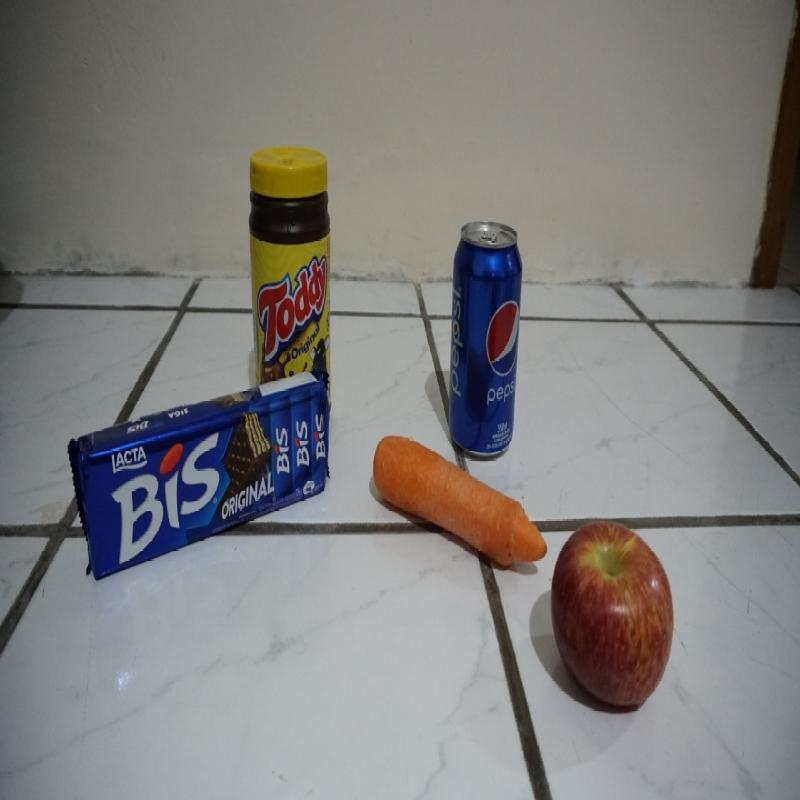Apple: (551, 517, 676, 705)
Carrot: (374, 437, 548, 589)
Chocolate Powder: (246, 148, 334, 362)
Soda can: (447, 215, 522, 426)
